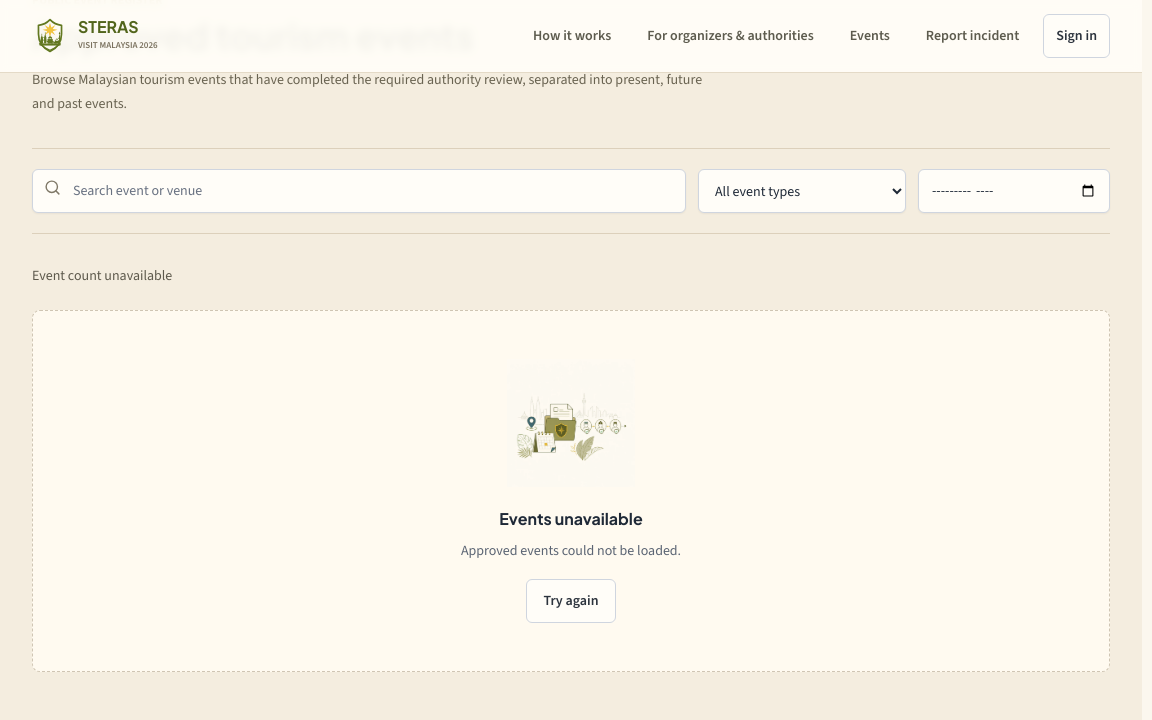
Scenario: PublicCalendar › shows an error and recovers when the listener succeeds on retry
(page scrolled)
Expected: the heading "Events unavailable" is shown, [499,508,643,529]
Expected: the text "Event count unavailable" is shown, [32,266,172,286]
Click the button "Try again" at (571, 601), box [526,579,616,623]
(page scrolled)
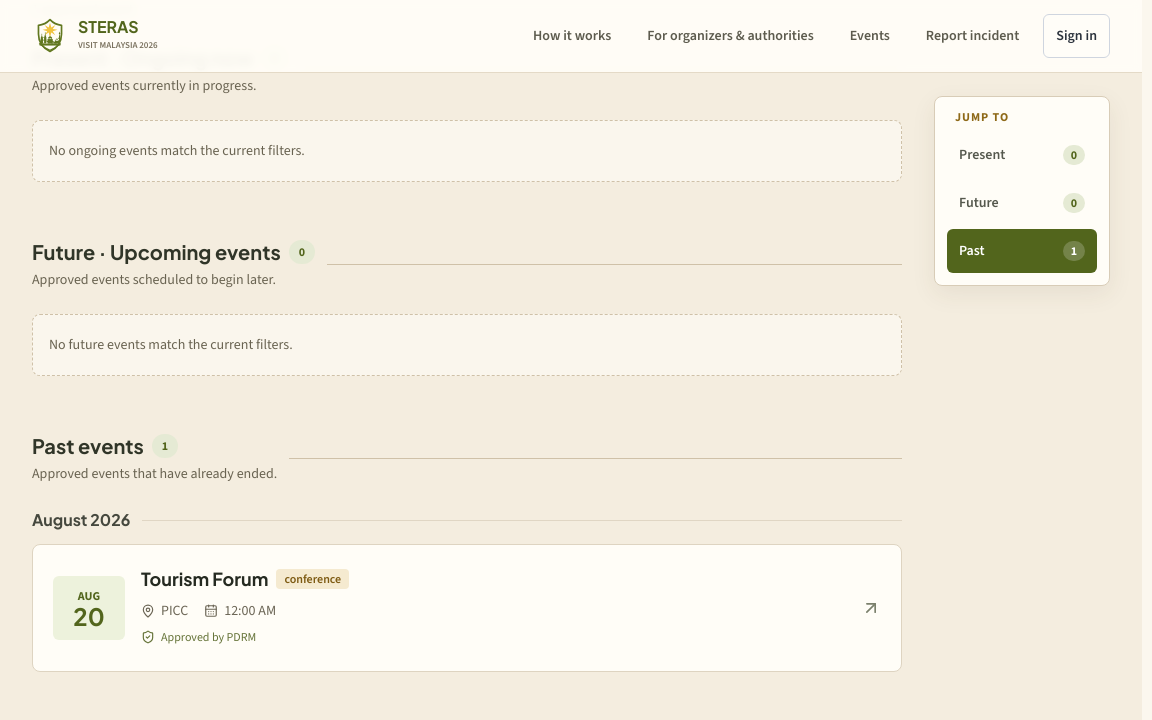
Expected: the heading "Tourism Forum" is shown, [141,565,268,593]
